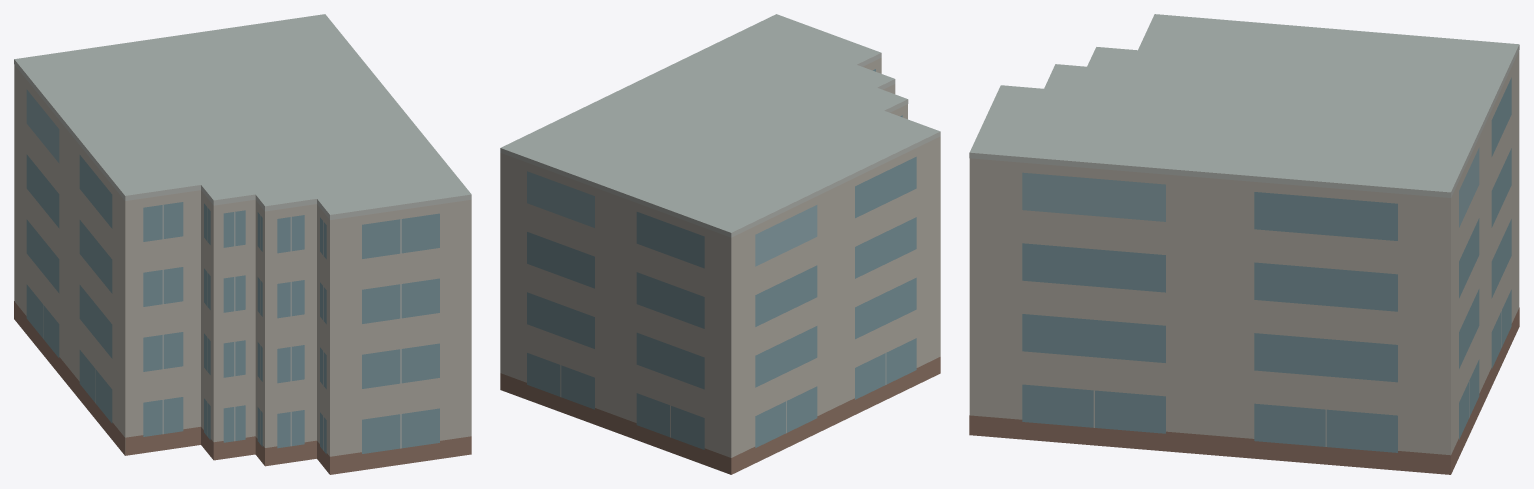
Rendered from residential-9b04c00b-b0cd-485c-aa07-f9afd9f5a40e.glb.
3 renders of one model, left to right at view 1: azimuth 30°, elevation 25°; view 2: azimuth 150°, elevation 25°; view 3: azimuth 270°, elevation 25°, orthographic. The views are drawn at different scales.
Visible parts, largest first — view 1: residential-9b04c00b-b0cd-485c-aa07-f9afd9f5a40e.tmp; view 2: residential-9b04c00b-b0cd-485c-aa07-f9afd9f5a40e.tmp; view 3: residential-9b04c00b-b0cd-485c-aa07-f9afd9f5a40e.tmp.
Boxes of the visible parts, <box> form: residential-9b04c00b-b0cd-485c-aa07-f9afd9f5a40e.tmp: <box>14,14,471,474</box>; residential-9b04c00b-b0cd-485c-aa07-f9afd9f5a40e.tmp: <box>500,14,940,474</box>; residential-9b04c00b-b0cd-485c-aa07-f9afd9f5a40e.tmp: <box>969,14,1519,474</box>.
Bounding box in the file's own units: 16.54 × 12.2 × 21.54.
